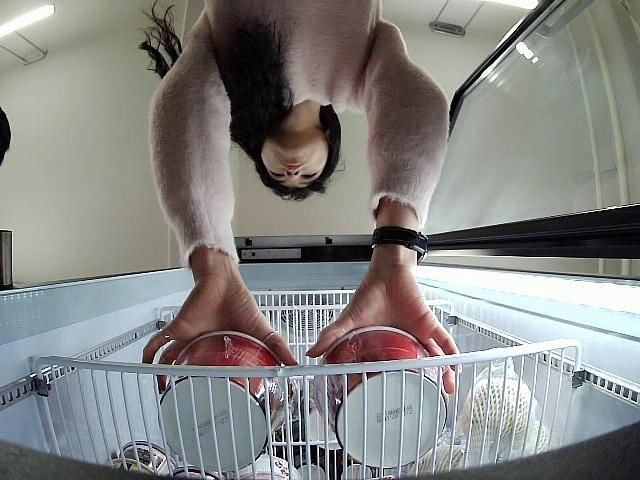01_ShinRamen_L: (315, 326, 451, 470), (159, 330, 291, 474)
